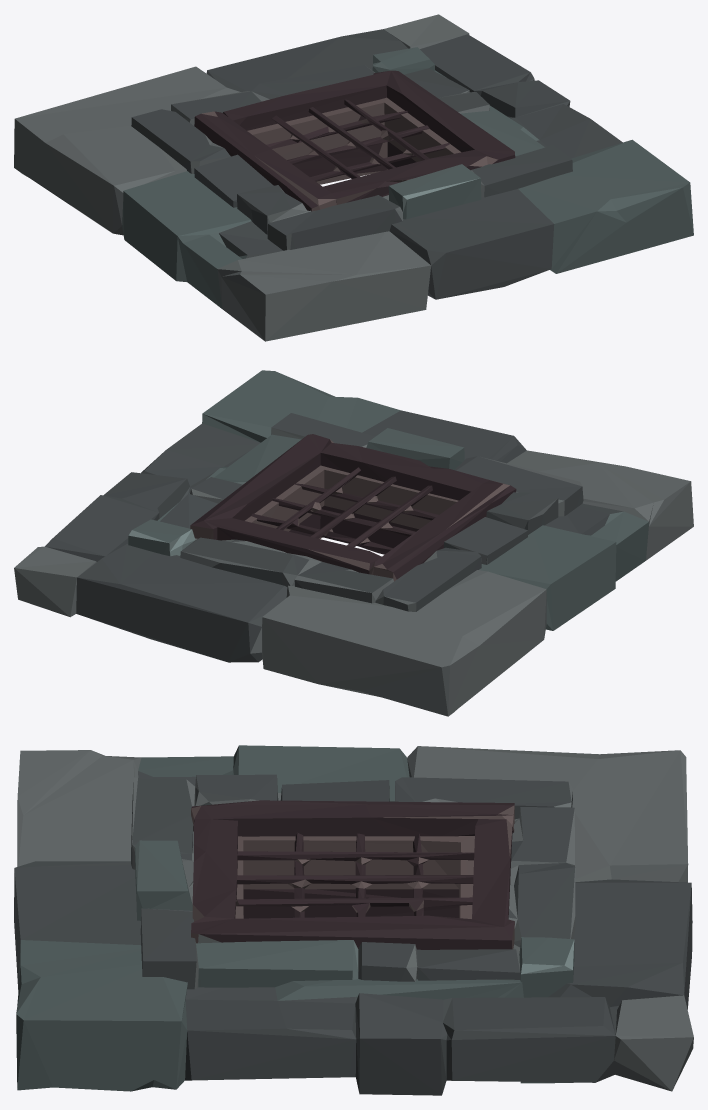
Rendered from MDungenon_StoneFloor_MetalBars.FBX.
The picture shows the model from 3 angles, top to bottom: view 1: azimuth 30°, elevation 25°; view 2: azimuth 150°, elevation 25°; view 3: azimuth 270°, elevation 25°; orthographic projection. The views are drawn at different scales.
Parts seen in each view (by area): view 1: MDungenon_StoneFloor_MetalBars_LOD0; view 2: MDungenon_StoneFloor_MetalBars_LOD0; view 3: MDungenon_StoneFloor_MetalBars_LOD0.
Boxes of the visible parts, left/top/right/bottom form: MDungenon_StoneFloor_MetalBars_LOD0: left=14, top=14, right=693, bottom=341; MDungenon_StoneFloor_MetalBars_LOD0: left=14, top=370, right=693, bottom=716; MDungenon_StoneFloor_MetalBars_LOD0: left=14, top=745, right=693, bottom=1095.
Size of what is drawn, in the model's own units: 6.03 by 1.32 by 6.03.
